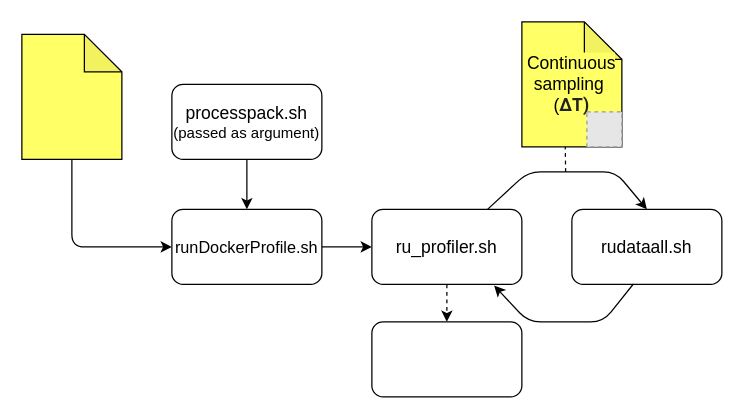
Some shapes in this 744 by 419 pixel diagram are drawn without their labels. Grey dashed boxes stand in for pictures. Here are the shapes that lost their labels. From the top down, the centre of each, then its label:
point (71, 96): Sample interval ( ΔT)
point (446, 359): Resource utilization sample (JSON)
